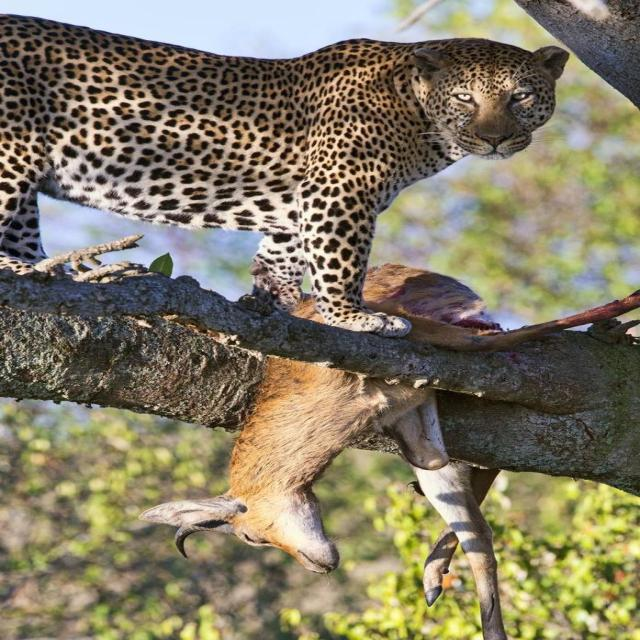Cheetah: (1, 7, 589, 331)
